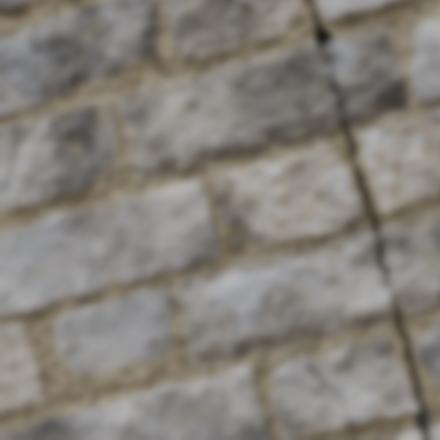brick: (0, 179, 220, 316), (0, 365, 270, 439), (0, 0, 158, 116), (215, 143, 365, 250), (272, 336, 418, 439), (0, 101, 118, 210), (53, 289, 172, 375), (358, 110, 439, 214), (164, 0, 300, 61), (0, 324, 45, 415), (410, 20, 439, 102), (319, 0, 402, 21), (417, 322, 439, 382), (0, 0, 37, 11)
broken_brick: (123, 44, 342, 175), (179, 231, 393, 362), (325, 33, 406, 122), (381, 221, 439, 313), (395, 430, 422, 439), (430, 426, 439, 439)
crack: (305, 0, 437, 439), (305, 362, 388, 430), (66, 14, 130, 87), (0, 119, 39, 193), (49, 115, 76, 147)
